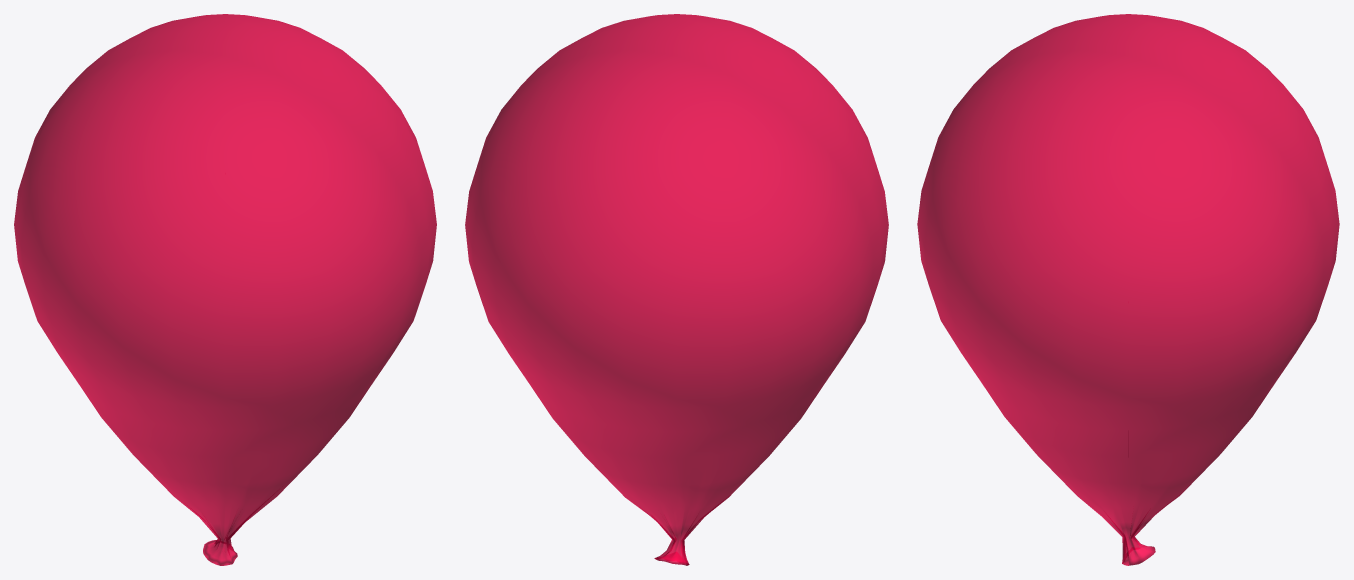
Rendered from balloon.FBX.
The picture shows the model from 3 angles, left to right: view 1: azimuth 30°, elevation 25°; view 2: azimuth 150°, elevation 25°; view 3: azimuth 270°, elevation 25°; orthographic projection.
Parts seen in each view (by area): view 1: balloon main; view 2: balloon main; view 3: balloon main.
Part boxes in pixels (<box>): balloon main: <box>14,14,436,565</box>; balloon main: <box>465,14,888,565</box>; balloon main: <box>917,14,1339,565</box>.
Size of the model in its own units: 28.24 by 39.13 by 28.24.
